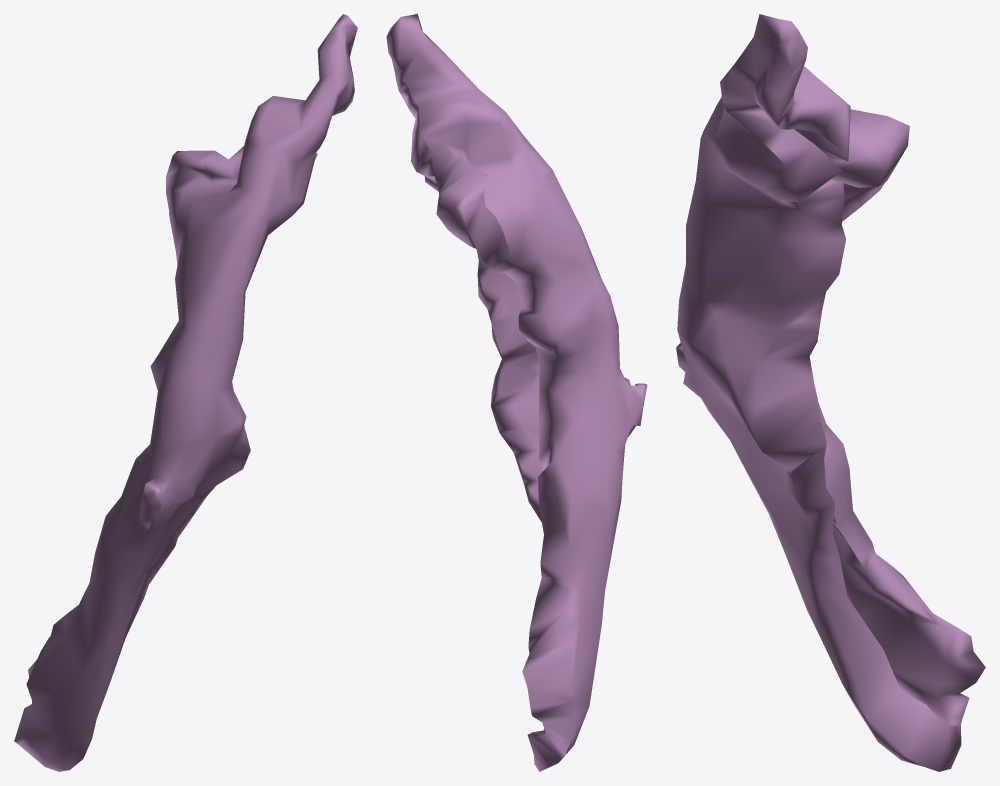
3 views of the same model, side by side, from view 1: azimuth 30°, elevation 25°; view 2: azimuth 150°, elevation 25°; view 3: azimuth 270°, elevation 25° (orthographic). The views are drawn at different scales.
Visible parts, largest first — view 1: 右侧侧副沟; view 2: 右侧侧副沟; view 3: 右侧侧副沟.
Part boxes in pixels (left/top/right/bottom): 右侧侧副沟: left=14, top=14, right=357, bottom=771; 右侧侧副沟: left=386, top=14, right=647, bottom=771; 右侧侧副沟: left=676, top=14, right=985, bottom=771.
Bounding box in the file's own units: 0.0468 × 0.1223 × 0.0389.
